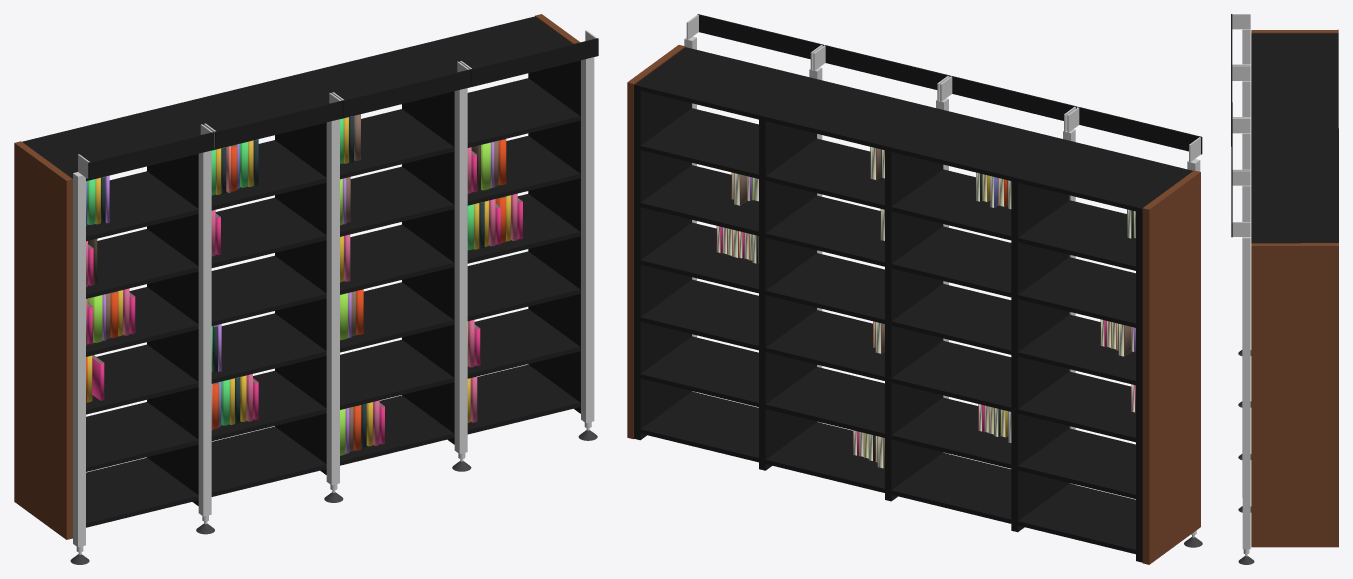
Rendered from new_2estante_books.fbx.
3 renders of one model, left to right at view 1: azimuth 30°, elevation 25°; view 2: azimuth 150°, elevation 25°; view 3: azimuth 270°, elevation 25°, orthographic. The views are drawn at different scales.
Parts seen in each view (by area): view 1: Cube.299; view 2: Cube.299; view 3: Cube.299.
Boxes of the visible parts, left/top/right/bottom form: Cube.299: left=14, top=14, right=598, bottom=564; Cube.299: left=627, top=14, right=1202, bottom=564; Cube.299: left=1231, top=14, right=1338, bottom=564.
Size of the model in its own units: 307 by 225 by 64.72.
